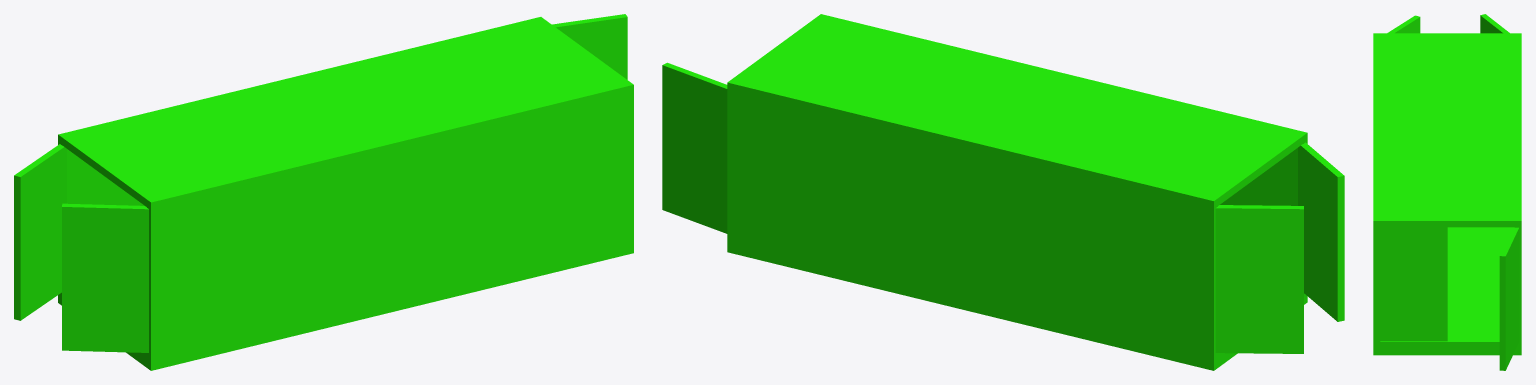
The model's file is shipping_container_900_b_col.fbx.
The picture shows the model from 3 angles, left to right: view 1: azimuth 30°, elevation 25°; view 2: azimuth 150°, elevation 25°; view 3: azimuth 270°, elevation 25°; orthographic projection. The views are drawn at different scales.
Parts seen in each view (by area): view 1: shipping_container_900_b_COL; view 2: shipping_container_900_b_COL; view 3: shipping_container_900_b_COL.
Part boxes in pixels (x1,y1,x2,y2): shipping_container_900_b_COL: (14, 14, 633, 370); shipping_container_900_b_COL: (662, 14, 1344, 370); shipping_container_900_b_COL: (1373, 14, 1521, 370).
Size of the model in its own units: 1163 by 300 by 300.
